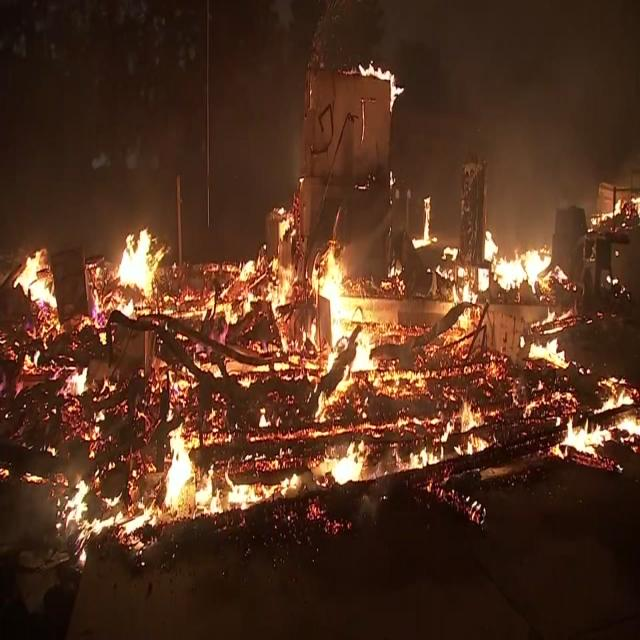fire: (18, 231, 634, 480)
